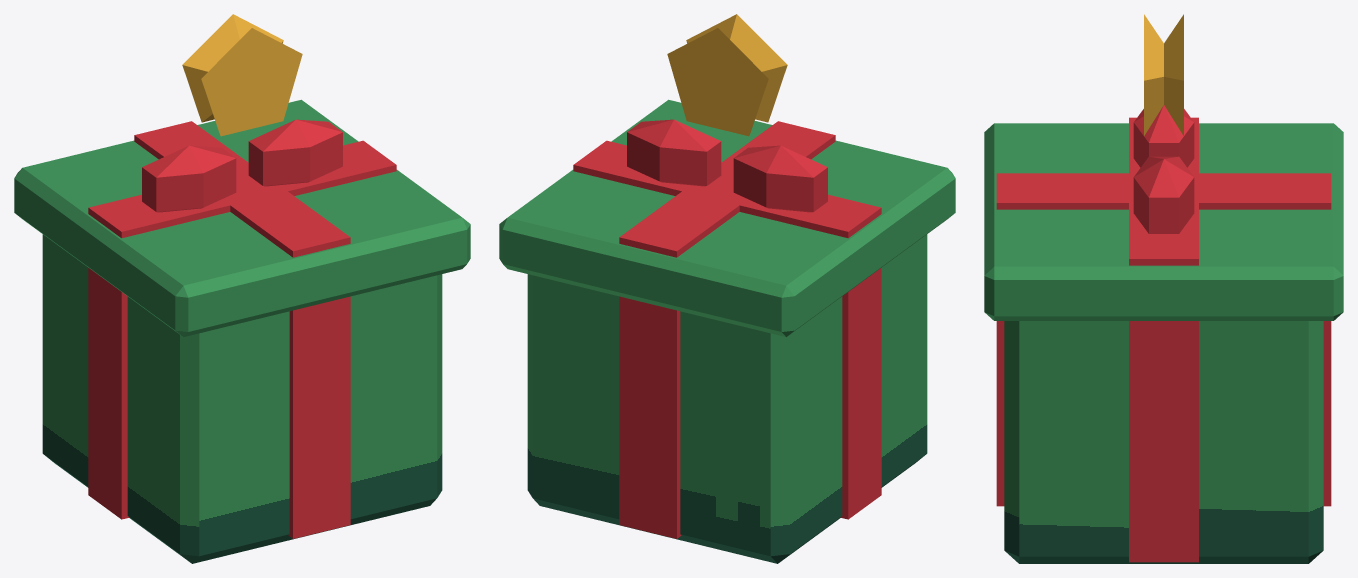
Rendered from santa_present.glb.
3 views of the same model, side by side, from view 1: azimuth 30°, elevation 25°; view 2: azimuth 150°, elevation 25°; view 3: azimuth 270°, elevation 25° (orthographic). The views are drawn at different scales.
Visible parts, largest first — view 1: santa_present; view 2: santa_present; view 3: santa_present.
Part boxes in pixels (x1,y1,x2,y2): santa_present: (14,14,470,563); santa_present: (499,14,955,563); santa_present: (984,14,1343,563).
Size of the model in its own units: 0.72 by 1.08 by 0.72.
Materials: 1 (1 with a texture image).
